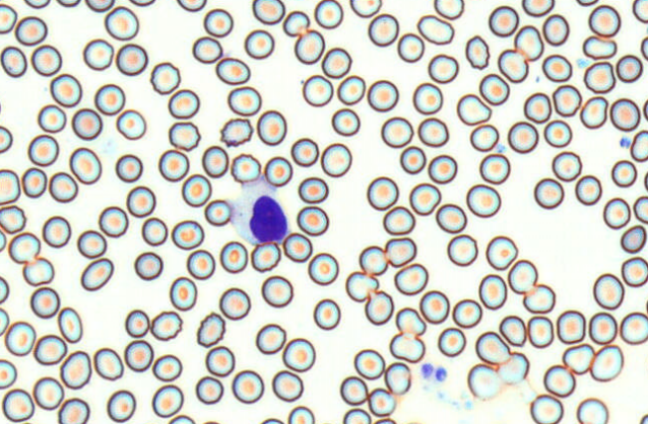MONO: (231, 183, 289, 244)
PLT: (420, 361, 435, 379), (434, 367, 450, 382), (618, 134, 633, 147)
RBC: (589, 344, 623, 382), (467, 363, 501, 400), (59, 350, 91, 389), (104, 5, 139, 40), (69, 146, 101, 184), (466, 183, 501, 217), (592, 272, 624, 309), (416, 14, 454, 45), (393, 262, 428, 295), (475, 331, 510, 364), (282, 337, 315, 372), (513, 24, 544, 61), (80, 257, 113, 291), (231, 369, 264, 403), (49, 73, 82, 107), (320, 142, 352, 177), (456, 93, 491, 125), (485, 235, 517, 270), (389, 332, 425, 363), (256, 109, 287, 145), (4, 320, 35, 356), (32, 376, 64, 410), (366, 176, 398, 210), (2, 388, 34, 422), (294, 28, 324, 64), (478, 273, 507, 310), (345, 270, 378, 302), (497, 351, 529, 384), (409, 182, 441, 215), (307, 252, 339, 285), (151, 384, 183, 417), (367, 13, 399, 46), (271, 369, 303, 402), (543, 364, 575, 397), (588, 4, 620, 37), (446, 233, 478, 266), (33, 334, 67, 365), (497, 48, 528, 82), (227, 85, 261, 116), (609, 97, 640, 131), (507, 259, 537, 294), (419, 289, 449, 324), (364, 289, 393, 325), (196, 311, 225, 347), (8, 231, 40, 263), (261, 275, 293, 307), (30, 44, 62, 76), (115, 43, 147, 75), (353, 348, 385, 380), (27, 134, 59, 166), (583, 61, 615, 93), (219, 287, 250, 320), (380, 116, 413, 147), (367, 79, 398, 112), (71, 107, 102, 140), (507, 120, 538, 153), (529, 393, 563, 423), (181, 173, 211, 207), (215, 56, 250, 85), (556, 309, 585, 344), (296, 205, 328, 236), (302, 74, 333, 106), (533, 177, 564, 209), (167, 88, 199, 119), (82, 38, 113, 70), (115, 108, 146, 140), (158, 149, 189, 181), (94, 83, 125, 115), (562, 343, 594, 374), (412, 82, 443, 114), (488, 5, 519, 37), (522, 283, 555, 313), (150, 61, 180, 94), (382, 205, 415, 235), (14, 15, 47, 45), (106, 389, 136, 422), (171, 219, 204, 249), (93, 347, 123, 380), (219, 117, 253, 146), (579, 95, 608, 129), (169, 276, 197, 311), (250, 241, 281, 272), (255, 323, 286, 354), (479, 153, 510, 184), (551, 150, 582, 181), (22, 256, 54, 286), (150, 310, 182, 340), (168, 121, 200, 151), (98, 205, 128, 237), (205, 345, 235, 377), (384, 237, 416, 267), (321, 46, 351, 78), (435, 203, 467, 233), (30, 286, 60, 318), (479, 73, 509, 105), (552, 84, 581, 117), (219, 240, 248, 273), (42, 215, 71, 248), (124, 339, 153, 372), (588, 311, 617, 344), (619, 311, 647, 345), (48, 171, 78, 202), (244, 28, 274, 59), (417, 117, 448, 147), (427, 53, 458, 83), (126, 185, 155, 217), (57, 306, 82, 343), (526, 315, 554, 348), (395, 306, 425, 336), (358, 245, 388, 275), (282, 232, 312, 262), (452, 298, 482, 328), (427, 154, 457, 184), (76, 229, 107, 258), (230, 153, 261, 182), (336, 74, 365, 105), (541, 53, 572, 82), (201, 145, 229, 177), (498, 314, 526, 346), (602, 197, 630, 229), (542, 13, 569, 46), (384, 361, 411, 394), (465, 34, 490, 69), (186, 249, 215, 279), (203, 8, 233, 37), (437, 327, 466, 357), (37, 103, 66, 133), (339, 375, 368, 405), (523, 92, 551, 123), (574, 174, 602, 205), (0, 45, 27, 77), (313, 298, 340, 330), (57, 397, 90, 423), (290, 137, 319, 166), (134, 251, 163, 280), (331, 107, 360, 136), (314, 0, 343, 29), (367, 387, 396, 416), (264, 156, 292, 186), (469, 123, 499, 151), (297, 176, 328, 203), (576, 397, 608, 423), (195, 375, 223, 404), (115, 153, 143, 182), (543, 119, 572, 147), (615, 54, 643, 83), (397, 32, 424, 62), (141, 216, 168, 246), (152, 354, 182, 381), (192, 36, 222, 63), (21, 167, 47, 198), (621, 256, 647, 287), (252, 0, 285, 24), (399, 145, 426, 174), (282, 10, 310, 37), (610, 159, 637, 187), (0, 204, 26, 233), (620, 224, 646, 253), (204, 199, 231, 226), (0, 168, 20, 204), (124, 309, 149, 337), (433, 0, 464, 20), (521, 0, 554, 17), (630, 129, 647, 162), (349, 0, 381, 17), (0, 3, 17, 33), (0, 358, 17, 388), (287, 405, 314, 423), (342, 407, 371, 423), (633, 195, 647, 224), (85, 0, 114, 12), (632, 0, 647, 23), (0, 125, 12, 153), (176, 0, 206, 11), (0, 307, 9, 336), (0, 275, 9, 303), (168, 414, 195, 423), (23, 0, 50, 8), (640, 36, 647, 60), (56, 0, 80, 7), (128, 0, 155, 6), (260, 417, 284, 423), (575, 0, 599, 6), (642, 98, 648, 121), (0, 229, 6, 252), (373, 417, 396, 423), (643, 170, 648, 191), (639, 413, 647, 423), (202, 420, 220, 424), (645, 297, 648, 316)
Schistocyte: (582, 36, 618, 61)
